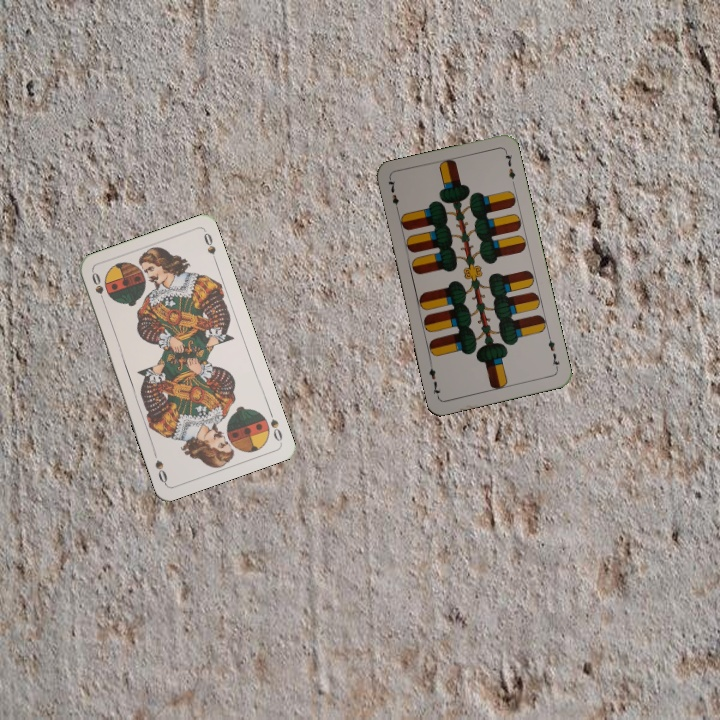E7: (544, 332, 562, 372), (384, 175, 401, 216)
SO: (88, 268, 108, 308), (265, 405, 285, 444)
